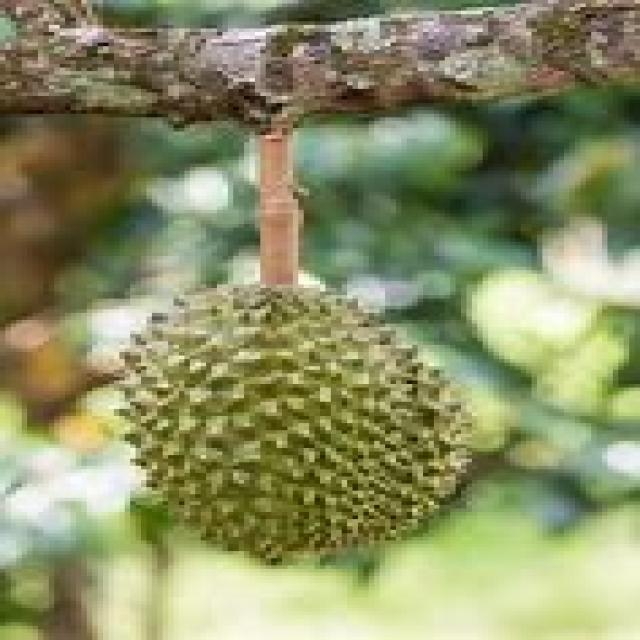immature: (111, 278, 475, 564)
